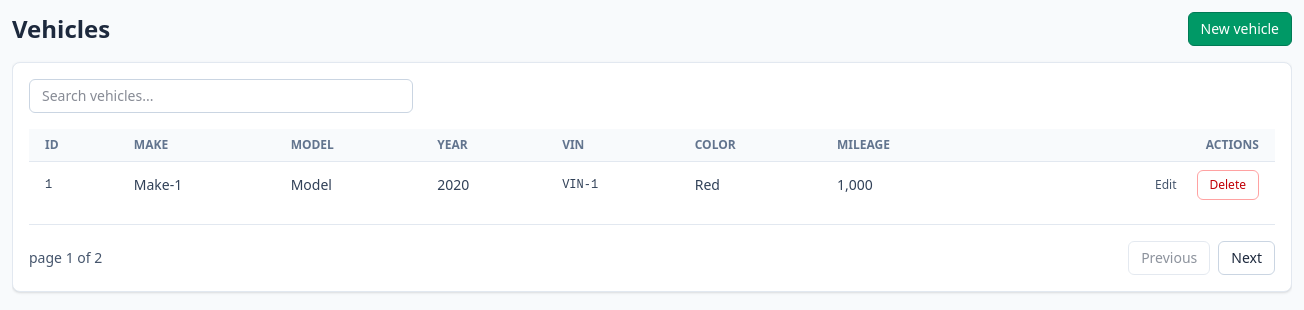
Test: VehicleListPage › T-14: VehicleListPage states › handles Prev/Next button disabled states and page navigation
Expected: the text "page 1 of 2" is shown, [29, 248, 102, 268]
Expected: the button "Previous" is disabled, [1128, 241, 1210, 275]
Note: Click next
What coordinates should you click on to do the following:
click the button "Next"
I would click on:
 (1247, 258)
Its box is [1218, 241, 1275, 275].
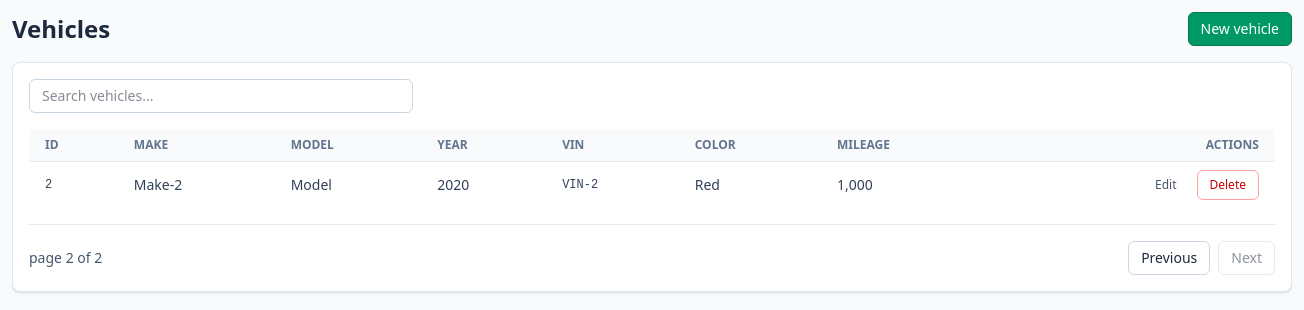
Now the text "page 2 of 2" is shown, box [29, 248, 102, 268]
Now the button "Previous" is enabled, box [1128, 241, 1210, 275]
Now the button "Next" is disabled, box [1218, 241, 1275, 275]
